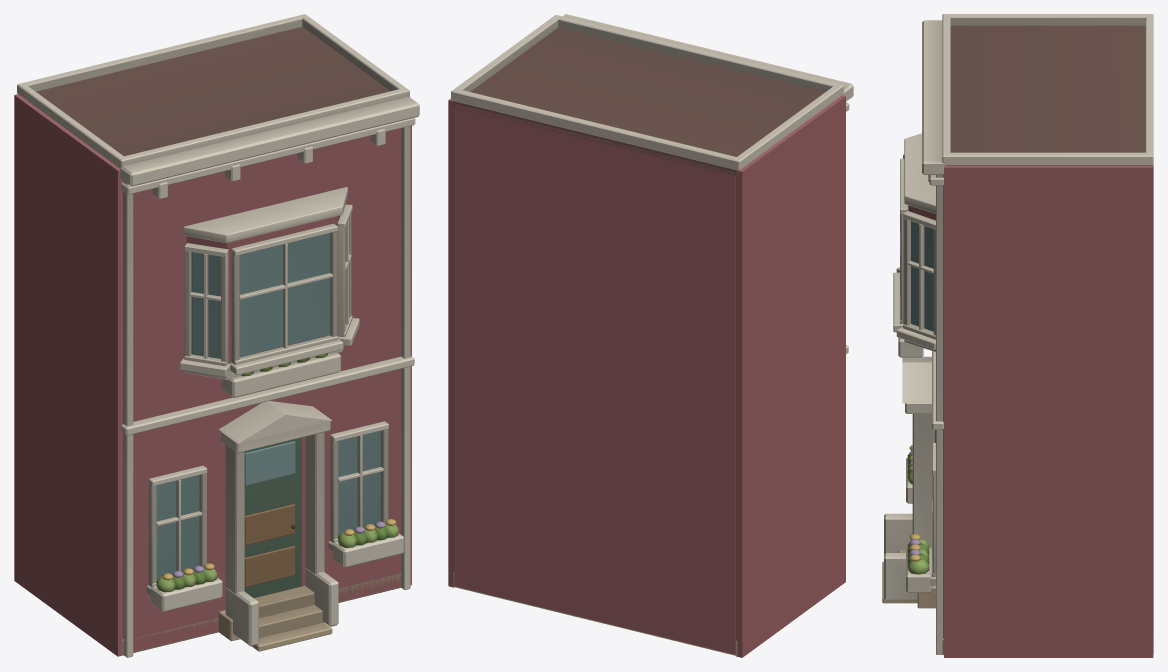
File: facade_sf_1.glb
3 renders of one model, left to right at view 1: azimuth 30°, elevation 25°; view 2: azimuth 150°, elevation 25°; view 3: azimuth 270°, elevation 25°, orthographic.
Parts seen in each view (by area): view 1: facade_sf_1; view 2: facade_sf_1; view 3: facade_sf_1.
Boxes of the visible parts, x1,y1,x2,y2 form: facade_sf_1: (14,14,419,657); facade_sf_1: (448,14,853,657); facade_sf_1: (882,14,1153,657).
Bounding box in the file's own units: 4.05 × 6.53 × 3.21.
